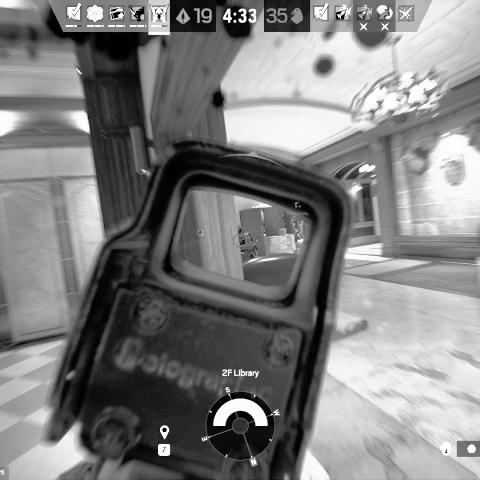Character: (236, 223, 260, 260)
Friend_label: (286, 200, 310, 216)
Head: (238, 224, 242, 231)
